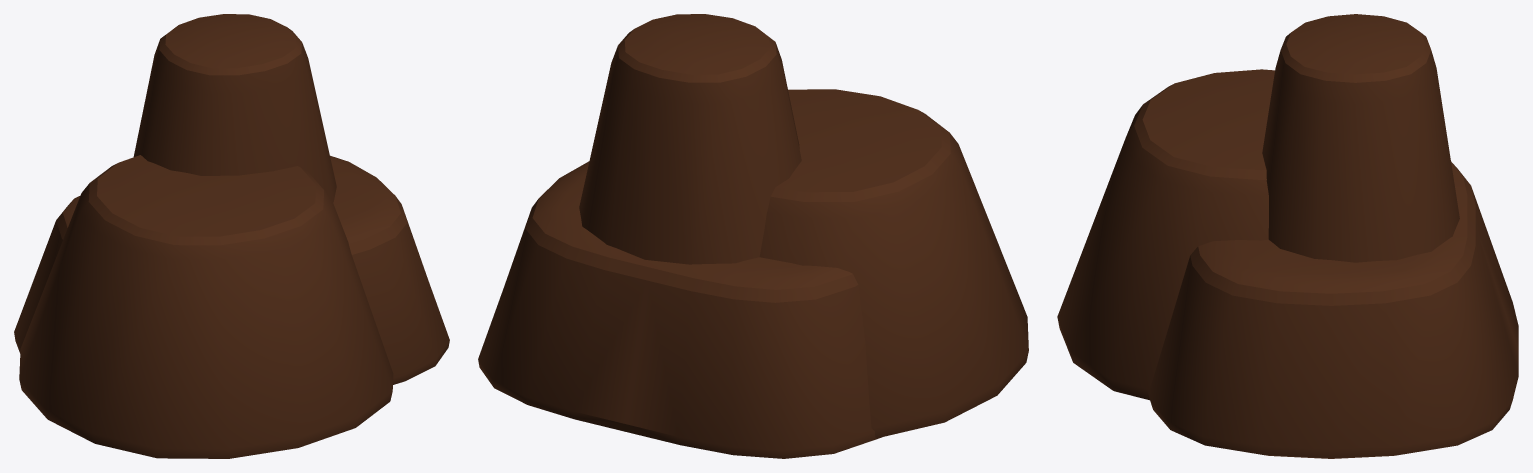
Rendered from RockPlatforms_3.obj.
3 renders of one model, left to right at view 1: azimuth 30°, elevation 25°; view 2: azimuth 150°, elevation 25°; view 3: azimuth 270°, elevation 25°, orthographic. The views are drawn at different scales.
Visible parts, largest first — view 1: RockPlatforms_3_Cube.378; view 2: RockPlatforms_3_Cube.378; view 3: RockPlatforms_3_Cube.378.
Part boxes in pixels (x1,y1,x2,y2): RockPlatforms_3_Cube.378: (14, 14, 449, 458); RockPlatforms_3_Cube.378: (478, 14, 1028, 458); RockPlatforms_3_Cube.378: (1057, 14, 1518, 458).
Bounding box in the file's own units: 6 × 4.38 × 5.44.
